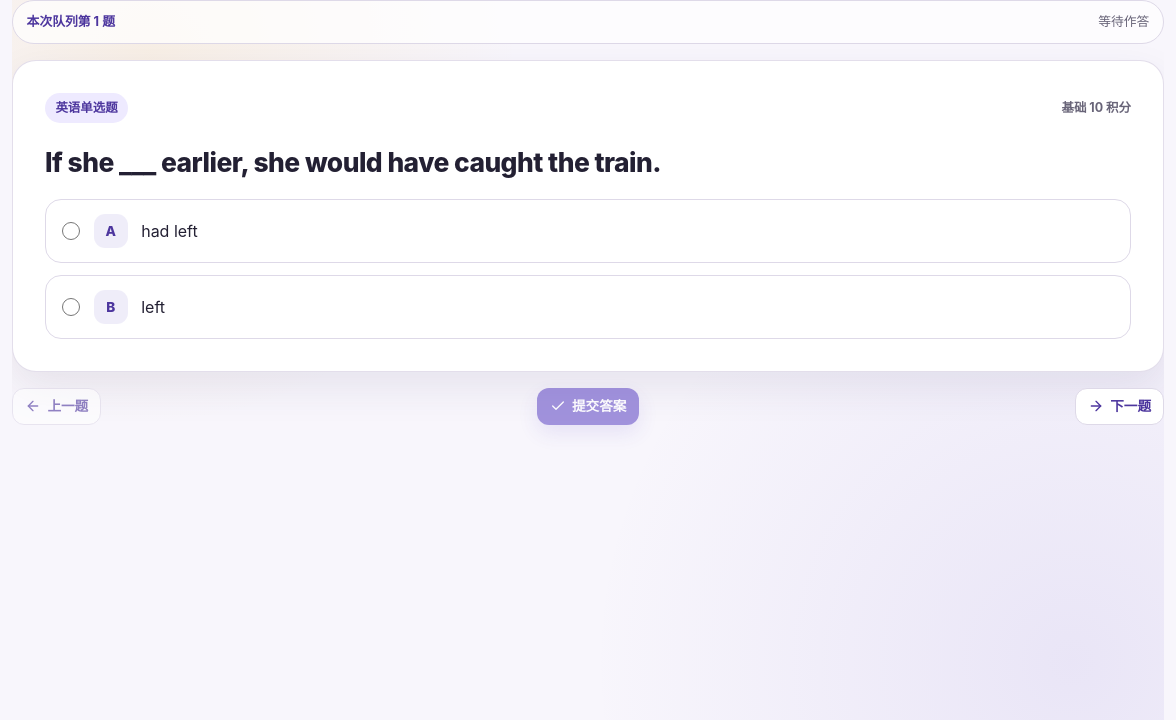
Test case: 随机练习队列 › 提交后锁定答案，并在上下题切换后保留只读结果
Click the radio button labelled "A had left". click: (71, 231)
box: [62, 222, 80, 240]
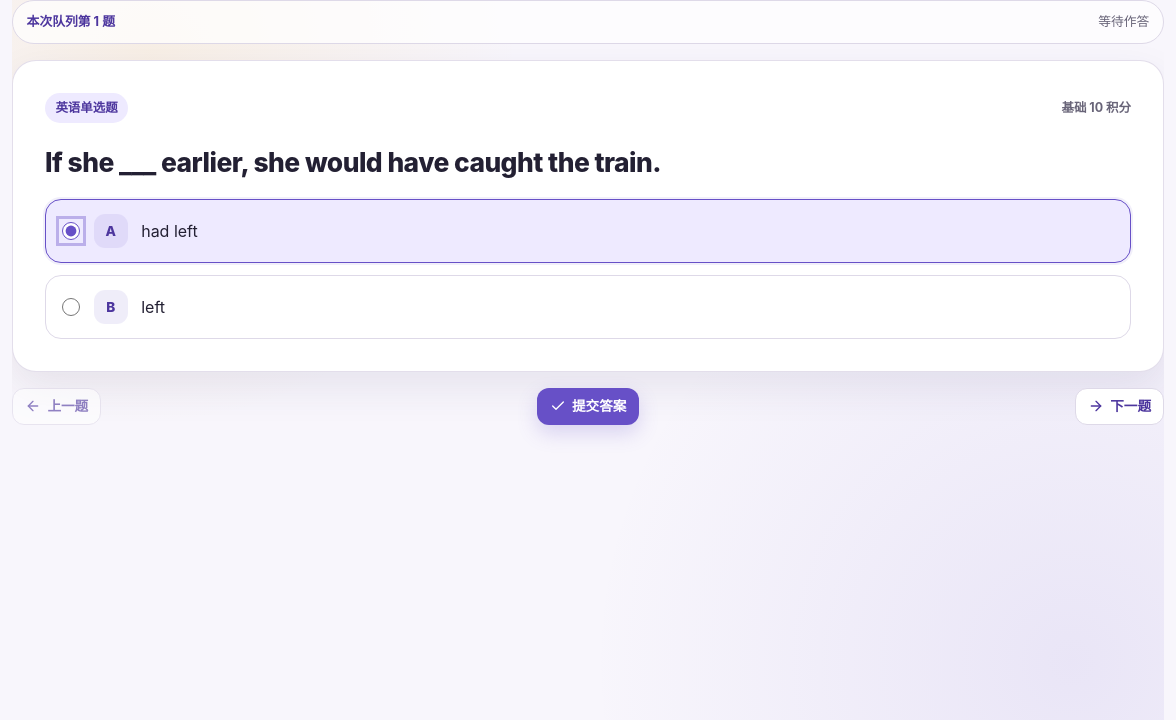
Expected: the button "上一题" is shown, [12, 388, 101, 425]
Expected: the button "下一题" is shown, [1075, 388, 1164, 425]
Click the button "提交答案". click: (588, 406)
box: [537, 388, 639, 425]
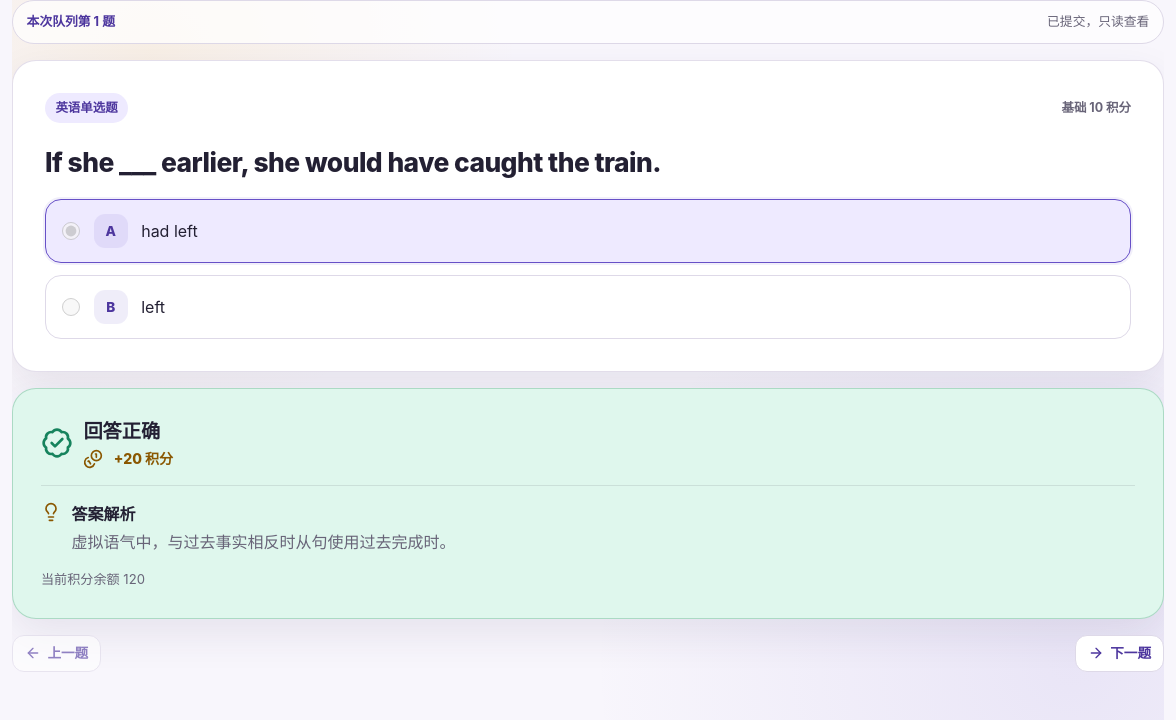
Expected: the heading "回答正确" is shown, [83, 417, 173, 446]
Expected: the button "提交答案" is gone
Expected: the radio button labelled "A had left" is disabled, [62, 222, 80, 240]
Click the button "下一题". click: (1119, 653)
box: [1075, 635, 1164, 672]
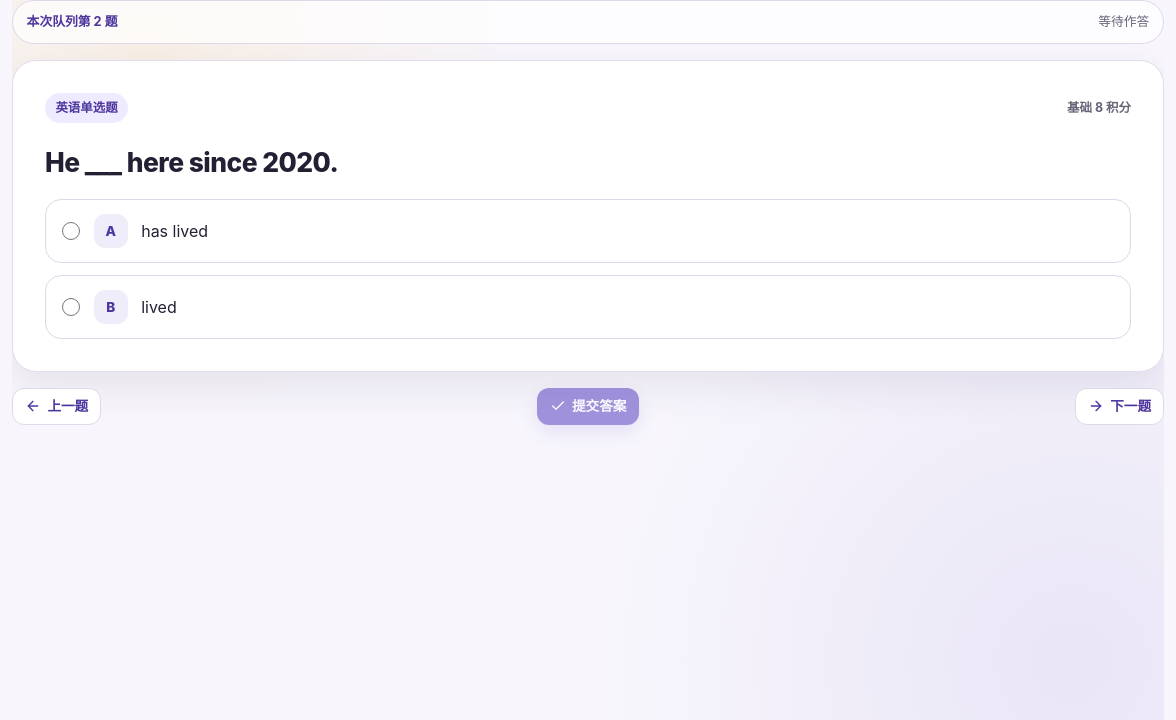
Expected: the text "He ___ here since 2020." is shown, [45, 146, 338, 178]
Click the button "上一题". click: (57, 406)
box: [12, 388, 101, 425]
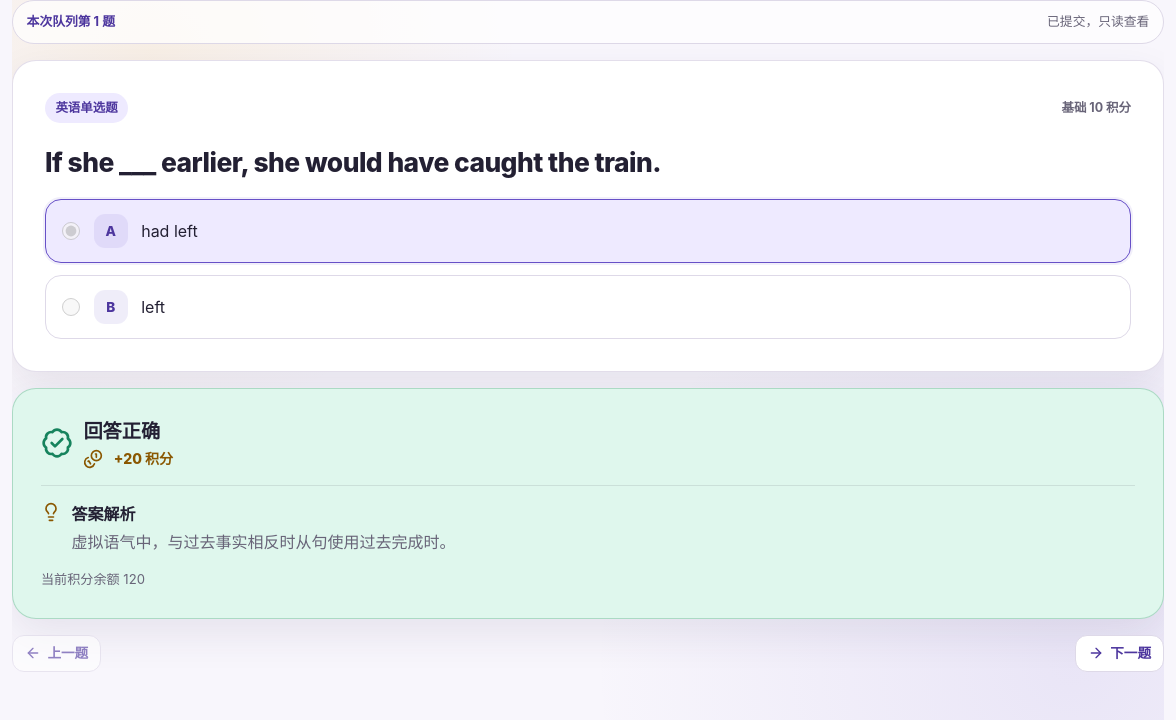
Expected: the heading "回答正确" is shown, [83, 417, 173, 446]
